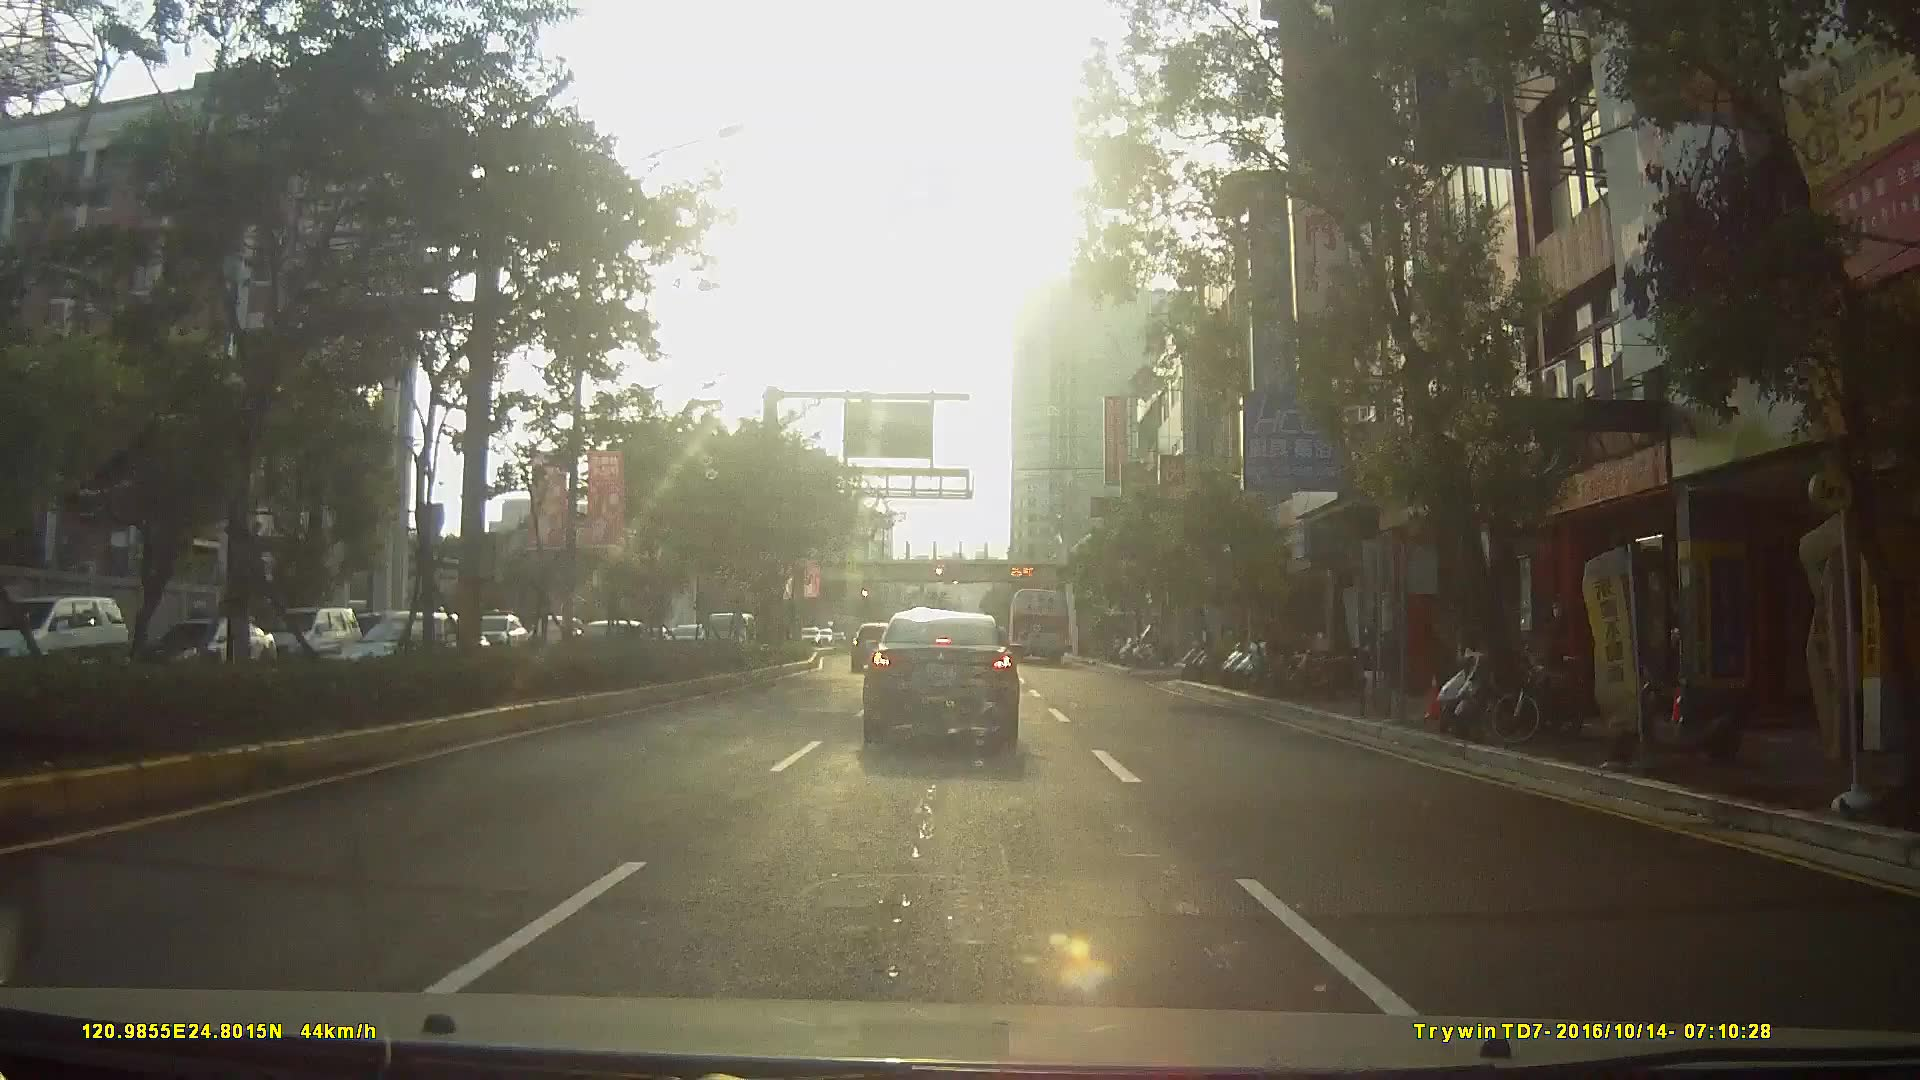vehicle: (860, 607, 1021, 744), (140, 616, 294, 688), (3, 592, 121, 676), (257, 603, 353, 666), (1006, 582, 1071, 659), (344, 607, 425, 663), (459, 611, 524, 653), (849, 618, 897, 669)
